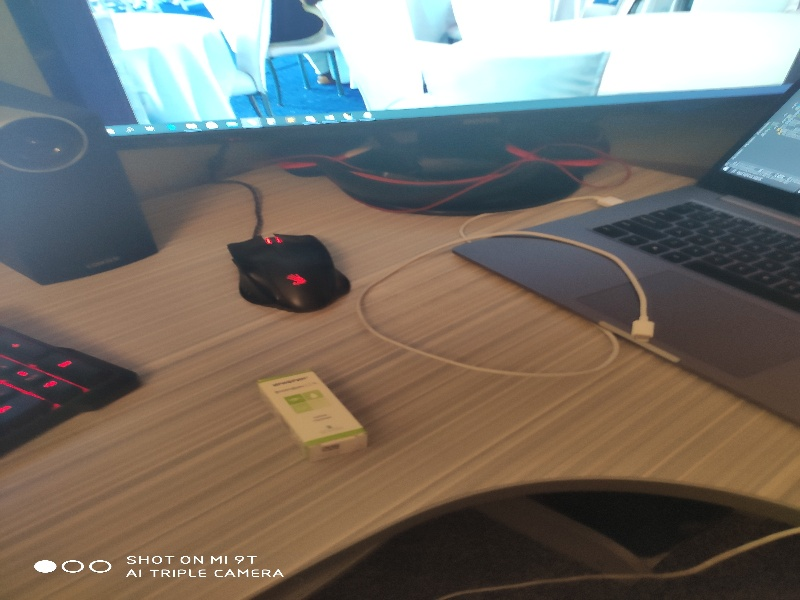ifrin: (251, 358, 371, 468)
